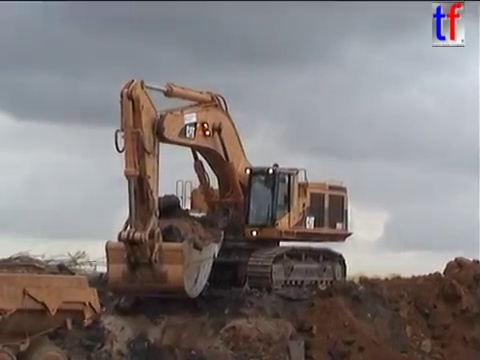excavator: (101, 75, 356, 304)
truck: (1, 260, 104, 360)
